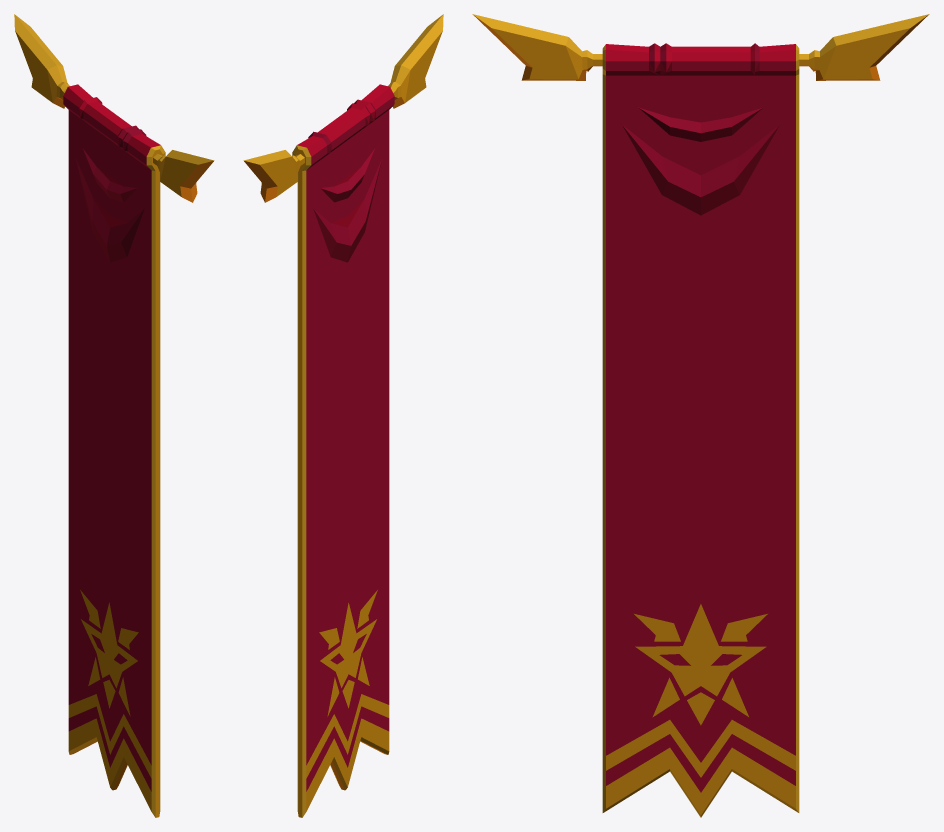
File: Prop_Banner_Richy.fbx
3 renders of one model, left to right at view 1: azimuth 30°, elevation 25°; view 2: azimuth 150°, elevation 25°; view 3: azimuth 270°, elevation 25°, orthographic. The views are drawn at different scales.
Visible parts, largest first — view 1: MODEL_Banner_Richy; view 2: MODEL_Banner_Richy; view 3: MODEL_Banner_Richy.
Part boxes in pixels (x1,y1,x2,y2): MODEL_Banner_Richy: (14, 14, 214, 817); MODEL_Banner_Richy: (243, 14, 443, 817); MODEL_Banner_Richy: (472, 14, 929, 817).
Bounding box in the file's own units: 76.25 × 2206 × 1139.
